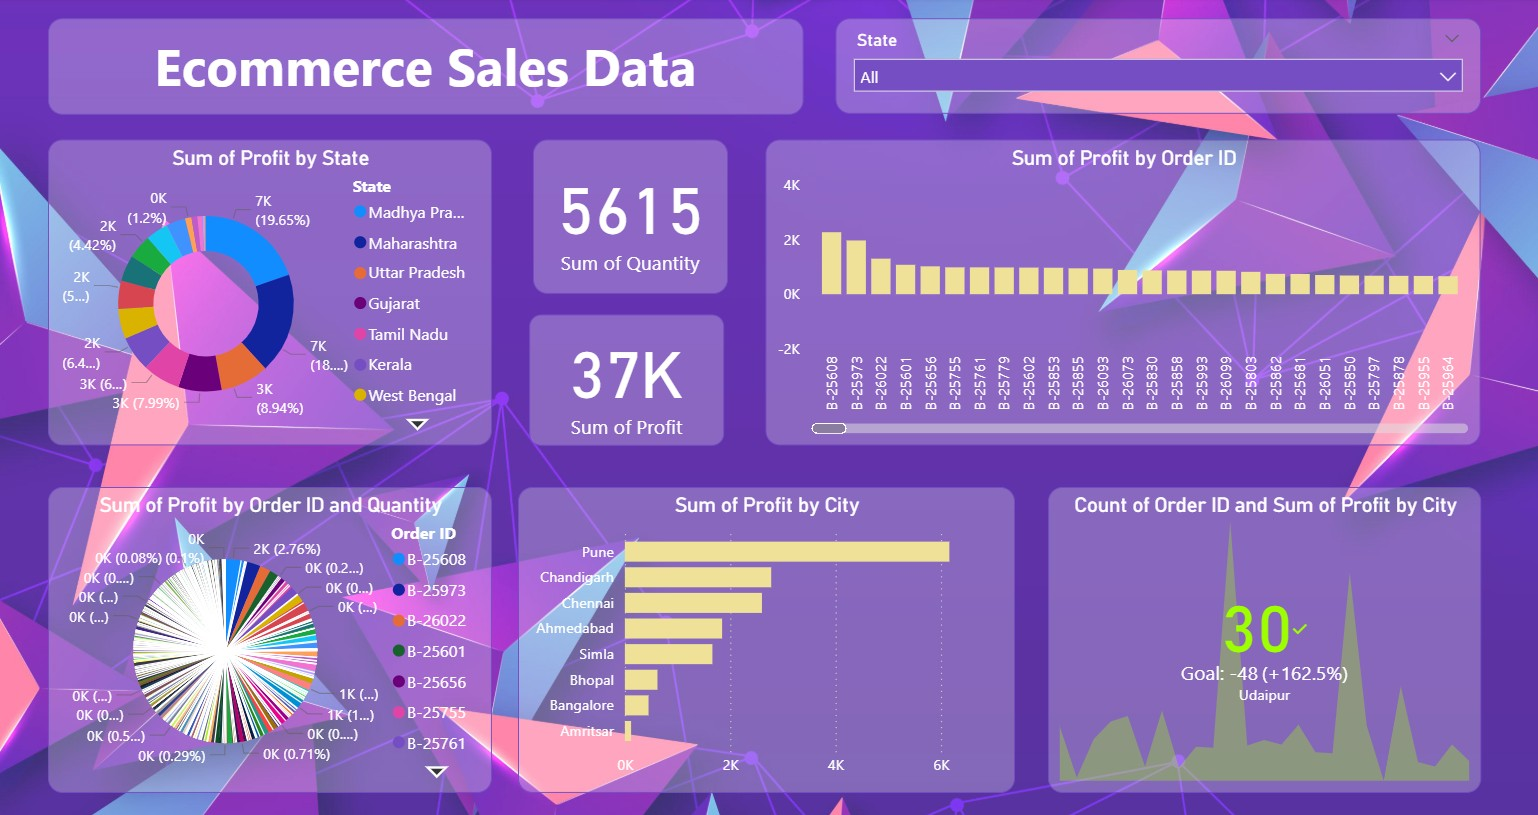

The page's visual inventory and layout, read from the dashboard file:
{"tool":"powerbi","page":{"name":"Page 1","canvas":[1280,720],"ordinal":0},"visuals":[{"type":"textbox","box":[41,18.1,626.1,79.6],"z":0},{"type":"columnChart","fields":{"Category":["Sheet1.Order ID"],"Y":["Sum(Sheet1 (2).Profit)"]},"box":[636.7,118,592.8,253.9],"z":1000},{"type":"kpi","fields":{"TrendLine":["Sheet1.City"],"Indicator":["CountNonNull(Sheet1 (2).Order ID)"],"Goal":["Sum(Sheet1 (2).Profit)"]},"box":[870,406.2,359.5,253.9],"z":2000},{"type":"donutChart","fields":{"Category":["Sheet1.State"],"Y":["Sum(Sheet1 (2).Profit)"]},"box":[41.2,118,367.8,253.9],"z":3000},{"type":"barChart","fields":{"Category":["Sheet1.City"],"Y":["Sum(Sheet1 (2).Profit)"]},"box":[430.9,406.2,411.7,253.9],"z":4000},{"type":"pieChart","fields":{"Category":["Sheet1.Order ID"],"Y":["Sum(Sheet1 (2).Profit)"],"Series":["Sheet1 (2).Quantity"]},"box":[41.2,406.2,367.8,253.9],"z":5000},{"type":"slicer","fields":{"Values":["Sheet1.State"]},"box":[694.3,17.8,535.2,79.6],"z":6000},{"type":"card","fields":{"Values":["Sum(Sheet1 (2).Quantity)"]},"box":[443.2,118,161.9,127.6],"z":7000},{"type":"card","fields":{"Values":["Sum(Sheet1 (2).Profit)"]},"box":[440.5,263.5,161.9,108.4],"z":8000}]}

Visuals, with their boxes on the page's 1280x720 design canvas (x1, y1, x2, y2). These are canvas units, not pixel positions in the 1538x815 screenshot, which may show the page scaled, cropped or inside an application window:
textbox: l=41, t=18, r=667, b=98
columnChart - Sheet1.Order ID x Sum(Sheet1 (2).Profit): l=637, t=118, r=1230, b=372
kpi - Sheet1.City x CountNonNull(Sheet1 (2).Order ID): l=870, t=406, r=1230, b=660
donutChart - Sheet1.State x Sum(Sheet1 (2).Profit): l=41, t=118, r=409, b=372
barChart - Sheet1.City x Sum(Sheet1 (2).Profit): l=431, t=406, r=843, b=660
pieChart - Sheet1.Order ID x Sum(Sheet1 (2).Profit): l=41, t=406, r=409, b=660
slicer - Sheet1.State: l=694, t=18, r=1230, b=97
card - Sum(Sheet1 (2).Quantity): l=443, t=118, r=605, b=246
card - Sum(Sheet1 (2).Profit): l=440, t=264, r=602, b=372
